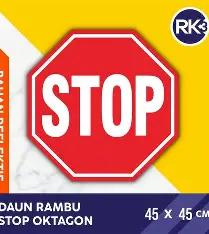Stop: (28, 31, 177, 179)
